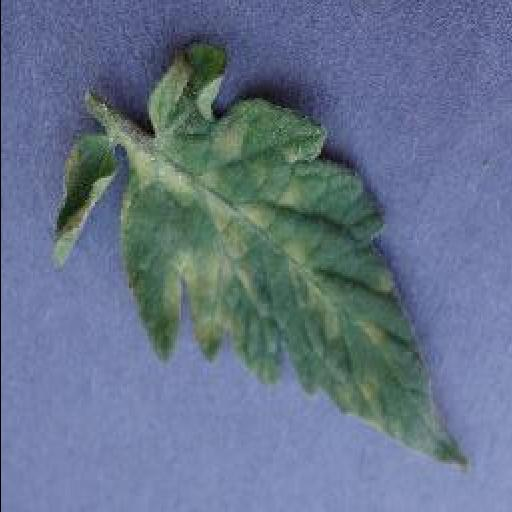disease_tomato: (118, 40, 468, 470)
